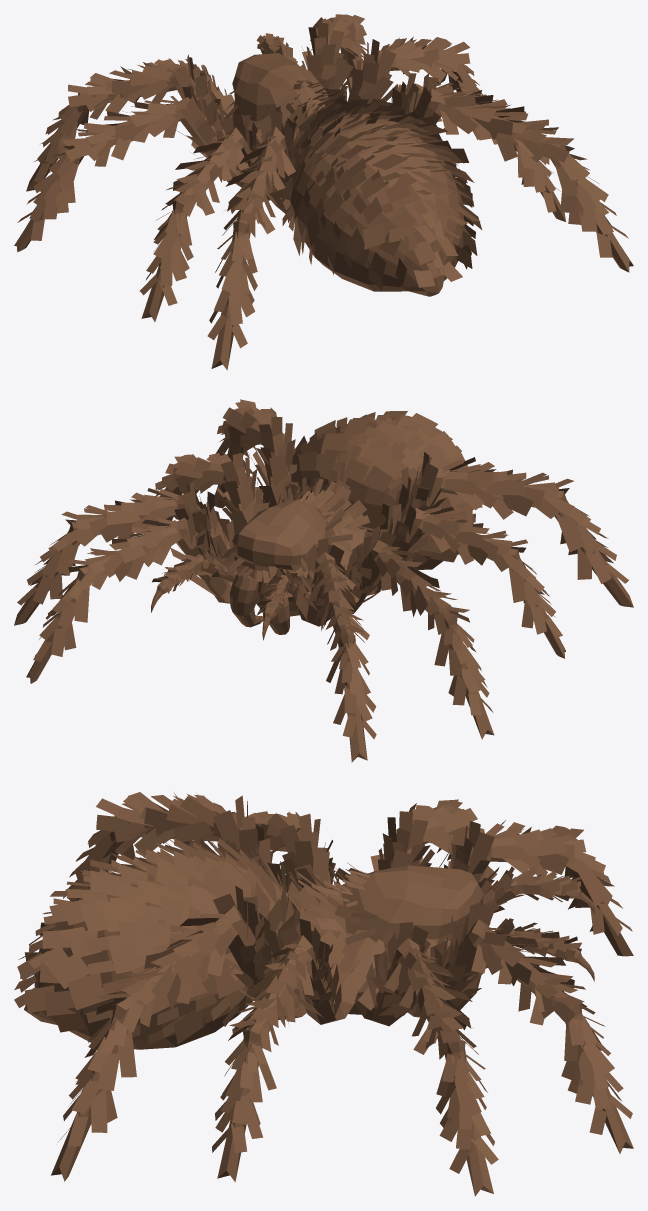
Rendered from spider_depredador.fbx.
The picture shows the model from 3 angles, top to bottom: view 1: azimuth 30°, elevation 25°; view 2: azimuth 150°, elevation 25°; view 3: azimuth 270°, elevation 25°; orthographic projection. The views are drawn at different scales.
Visible parts, largest first — view 1: spider2.001; view 2: spider2.001; view 3: spider2.001.
Part boxes in pixels (x1,y1,x2,y2): spider2.001: (14,14,633,370); spider2.001: (14,399,633,762); spider2.001: (14,792,633,1196).
Bounding box in the file's own units: 40.71 × 14.1 × 37.24.
Materials: 1 (1 with a texture image).
